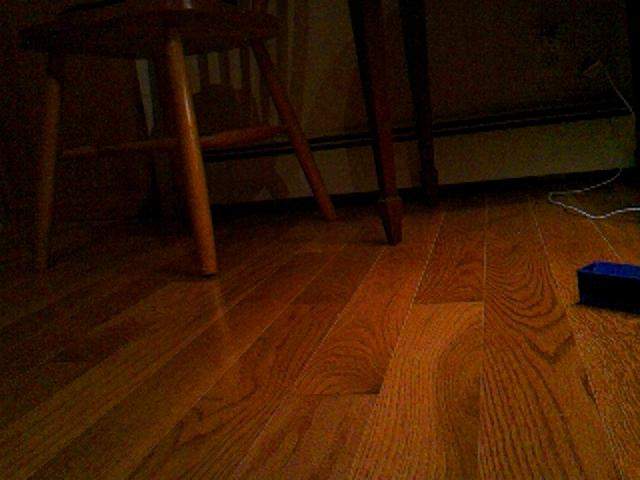blue: (575, 258, 640, 319)
